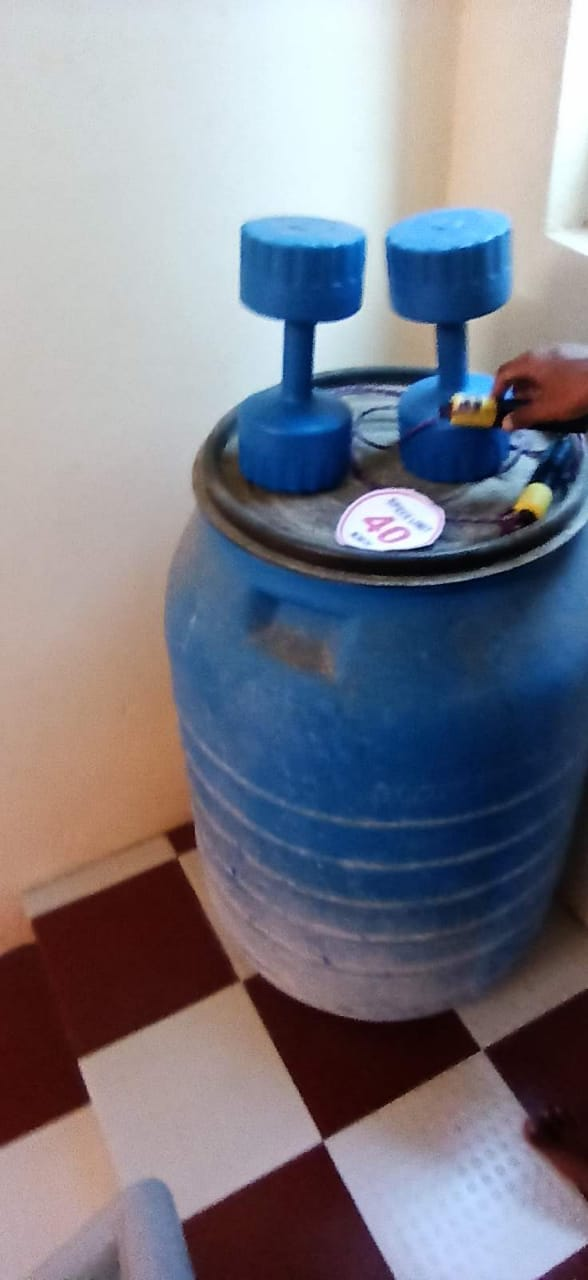SPEED LIMIT (40 KM/H): (323, 484, 470, 561)
